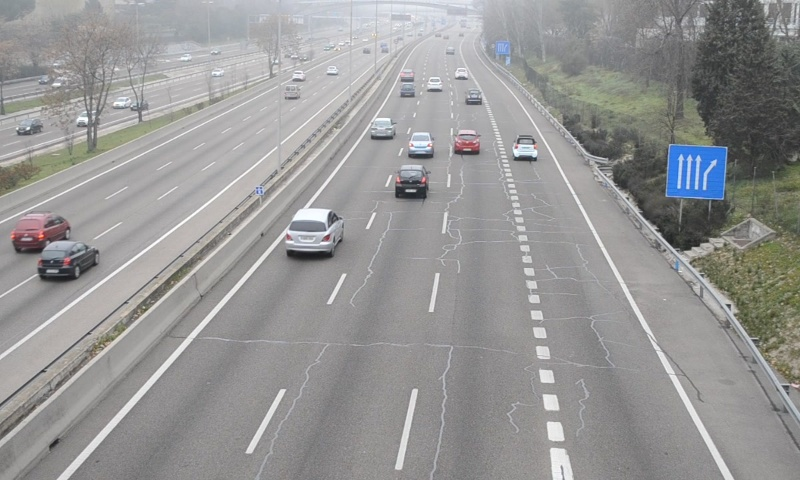car: (284, 208, 344, 255), (394, 164, 429, 200), (512, 134, 538, 162), (454, 129, 482, 155), (408, 132, 434, 158), (369, 116, 397, 140), (464, 88, 482, 106), (426, 75, 444, 92), (398, 83, 415, 98)
